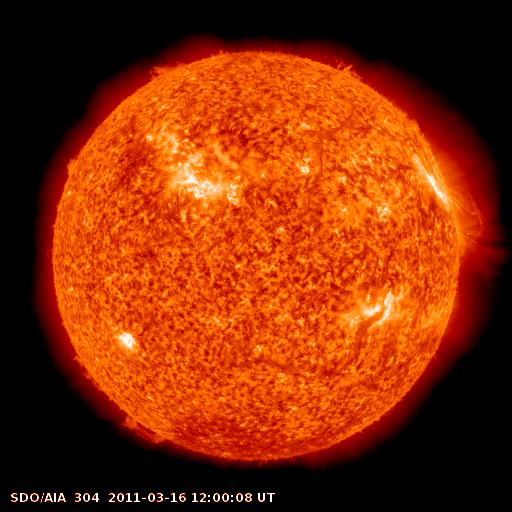prominence: (64, 339, 116, 406), (109, 407, 179, 456), (142, 53, 202, 86), (55, 139, 89, 197), (319, 49, 366, 88)
